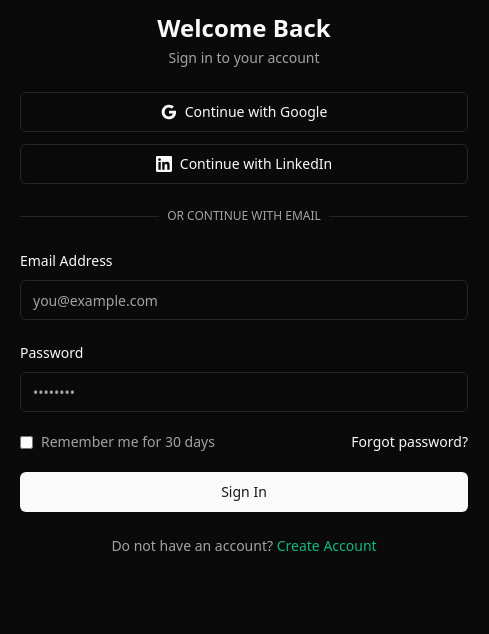
Test: LoginForm › shows error message on failed login
In the field labelled "Email Address": (244, 300) [20,280,468,320], type "test@example.com"
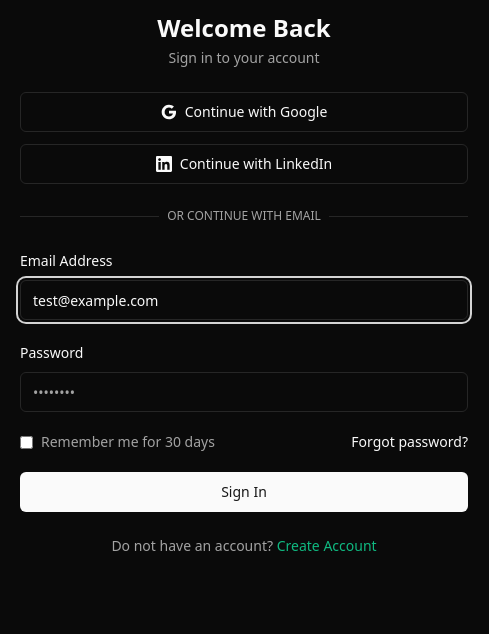
In the password field labelled "Password": (244, 392) [20,372,468,412], type "wrong"
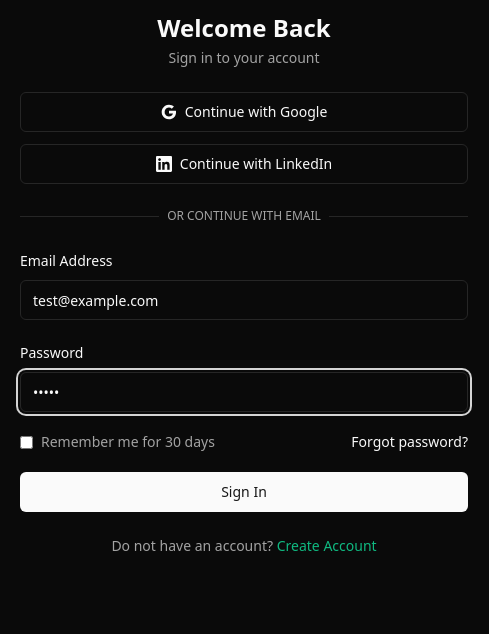
Click the button "Sign In": (244, 492) [20,472,468,512]
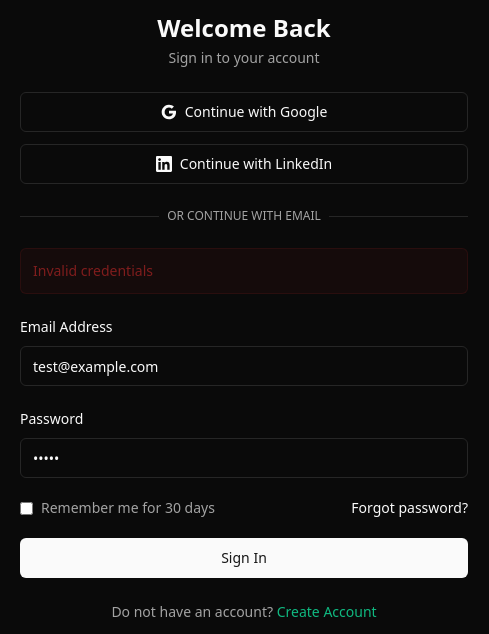
Result: the text "Invalid credentials" is shown at [20,248,468,294]
